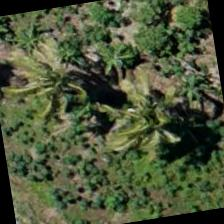Kelapa_Sawit: (9, 27, 112, 130), (105, 72, 208, 174)
